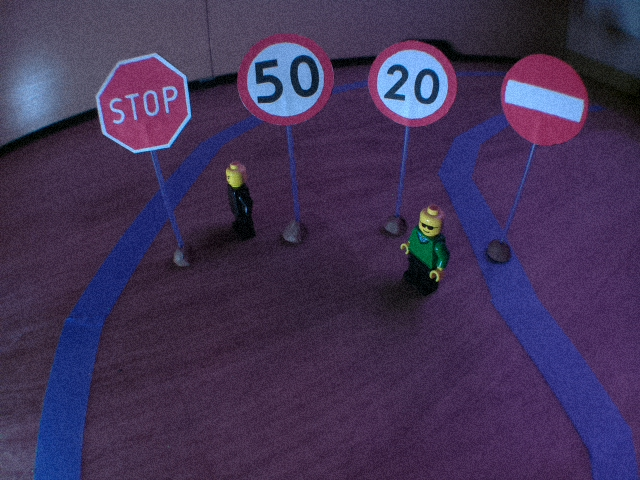LEGO_person: (398, 202, 451, 300), (224, 160, 257, 244)
ogr_20: (365, 40, 460, 128)
ogr_50: (235, 30, 336, 129)
stop: (94, 49, 194, 156)
zakaz: (497, 51, 591, 149)
